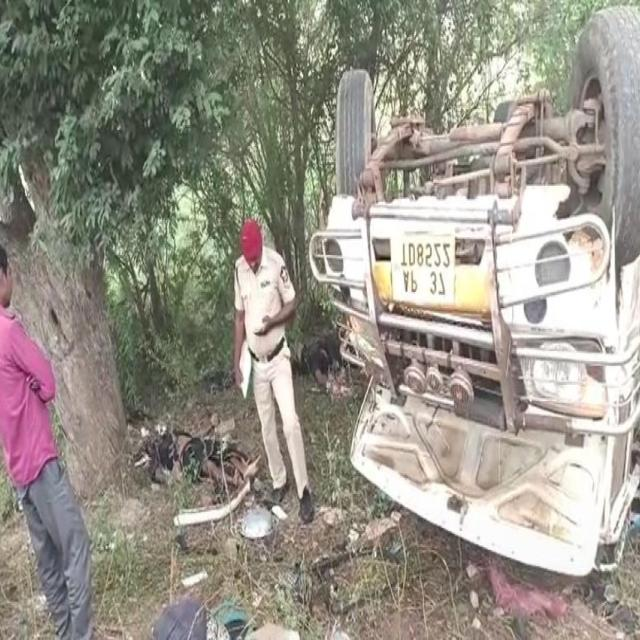accident: (310, 9, 640, 576)
